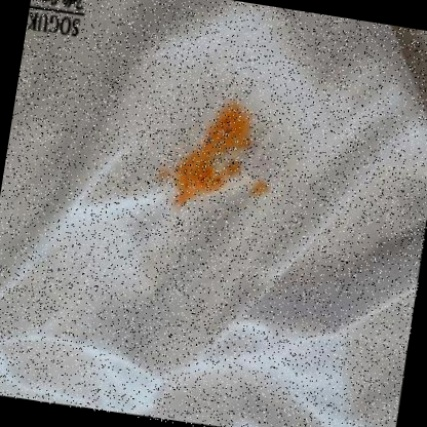kimchi: (149, 87, 260, 219), (251, 172, 274, 208)
